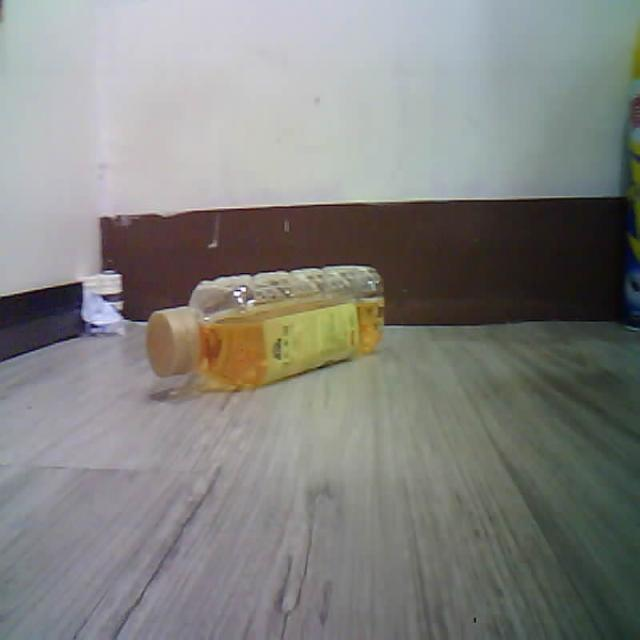bottle: (147, 266, 384, 389)
